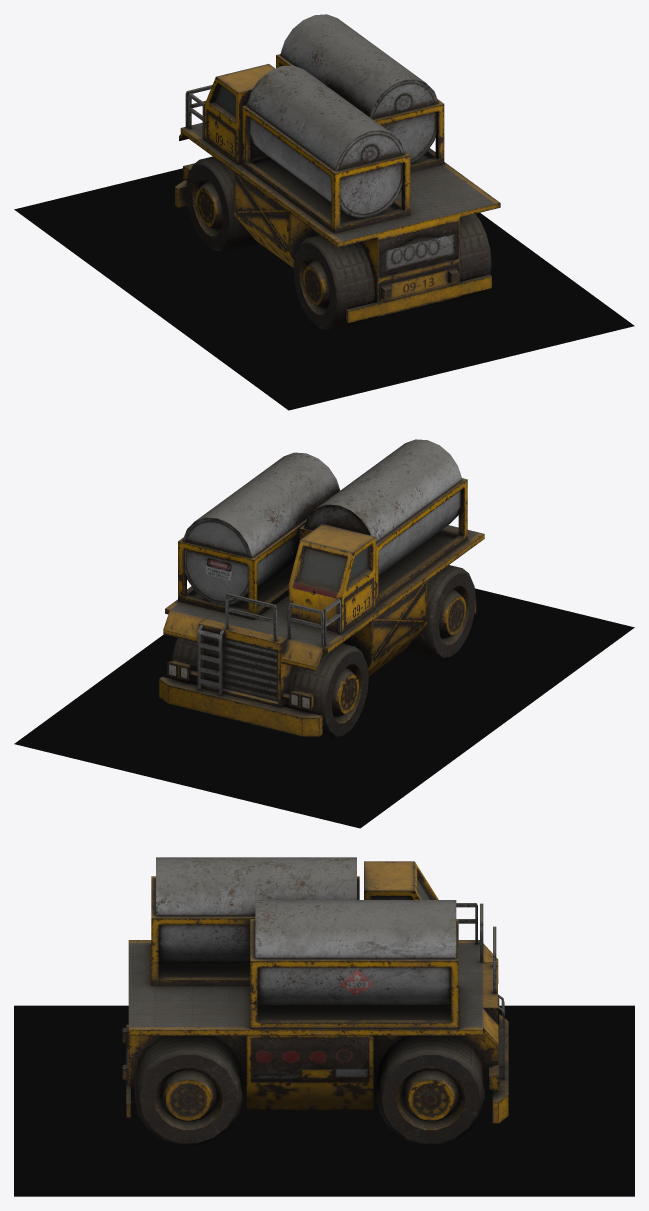
The model's file is airex.FBX.
3 views of the same model, one above another, from view 1: azimuth 30°, elevation 25°; view 2: azimuth 150°, elevation 25°; view 3: azimuth 270°, elevation 25° (orthographic). The views are drawn at different scales.
Parts seen in each view (by area): view 1: airextruck, Plane001; view 2: airextruck, Plane001; view 3: airextruck, Plane001.
Part boxes in pixels (left/top/right/bottom): airextruck: left=175, top=14, right=500, bottom=330; Plane001: left=14, top=168, right=634, bottom=410; airextruck: left=159, top=439, right=484, bottom=739; Plane001: left=14, top=588, right=634, bottom=828; airextruck: left=122, top=857, right=508, bottom=1145; Plane001: left=14, top=1005, right=634, bottom=1196.
Size of the model in its own units: 296 by 162 by 406.
